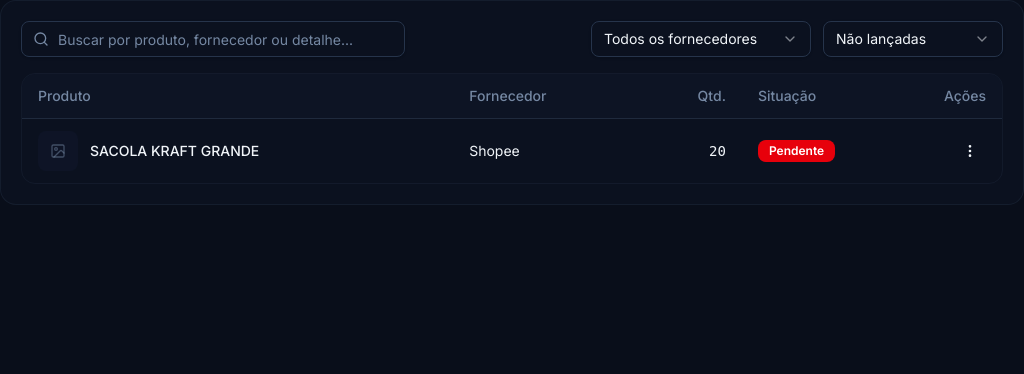
Test: PurchasesTable — no celular (06/10/2026) › o recebimento travado diz o motivo por extenso — no toque não há title
Press the mouse on the button named "Opções da compra 7": (970, 151) [954,135,986,167]
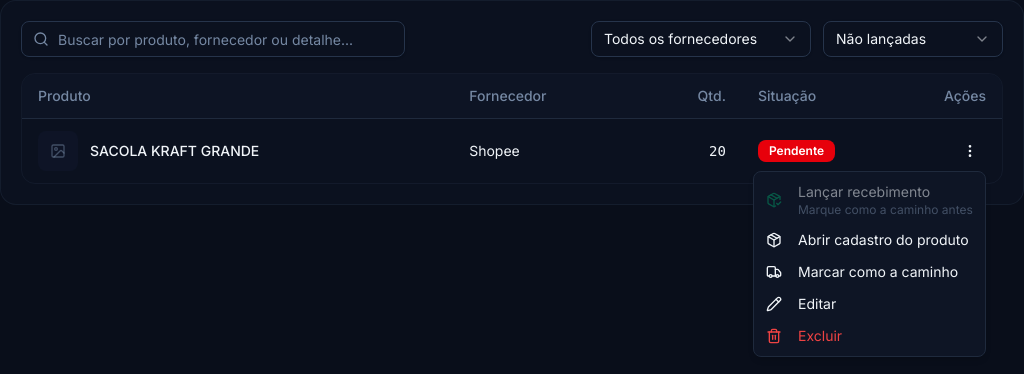
expect the text "Marque como a caminho antes" is shown: met, box [798,202,973,218]
